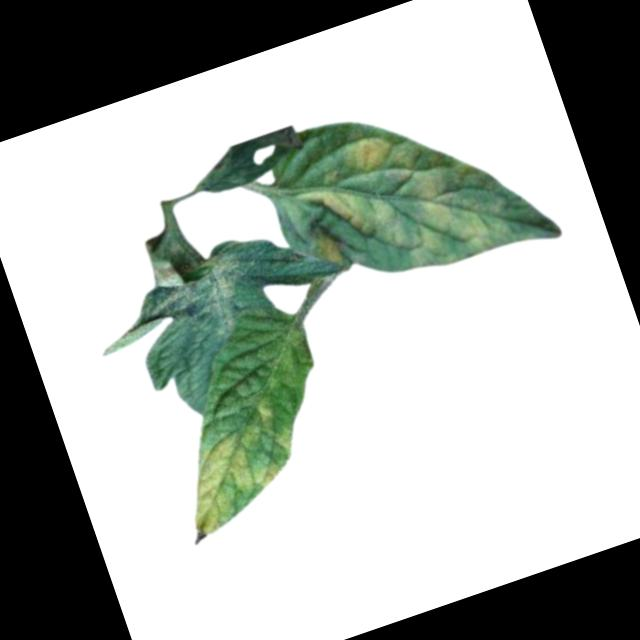Leaf_Mold: (282, 82, 521, 303), (162, 393, 314, 539), (136, 245, 259, 358)
